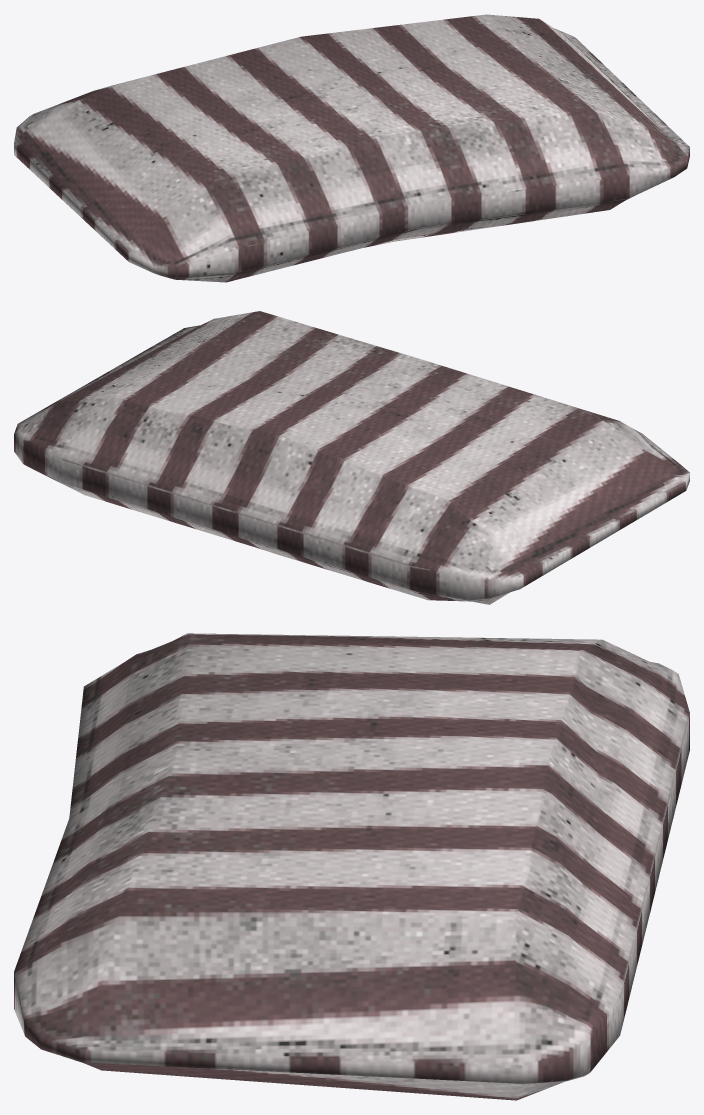
File: Pillow002.fbx
3 views of the same model, one above another, from view 1: azimuth 30°, elevation 25°; view 2: azimuth 150°, elevation 25°; view 3: azimuth 270°, elevation 25° (orthographic). The views are drawn at different scales.
Visible parts, largest first — view 1: Pillow002; view 2: Pillow002; view 3: Pillow002.
Part boxes in pixels (left/top/right/bottom): Pillow002: left=14, top=14, right=689, bottom=282; Pillow002: left=14, top=311, right=689, bottom=604; Pillow002: left=14, top=633, right=689, bottom=1100.
Size of the model in its own units: 53.04 by 79.3 by 16.18.
